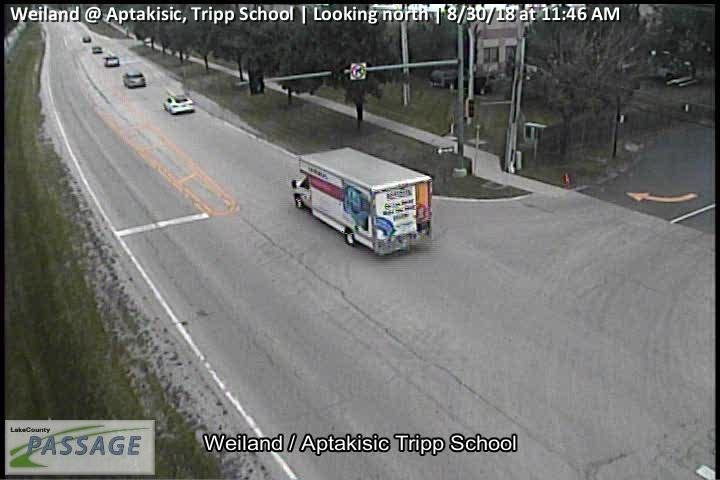Sedan: (163, 93, 194, 115), (122, 71, 146, 88), (103, 54, 120, 66)
Truck: (290, 146, 433, 256)
